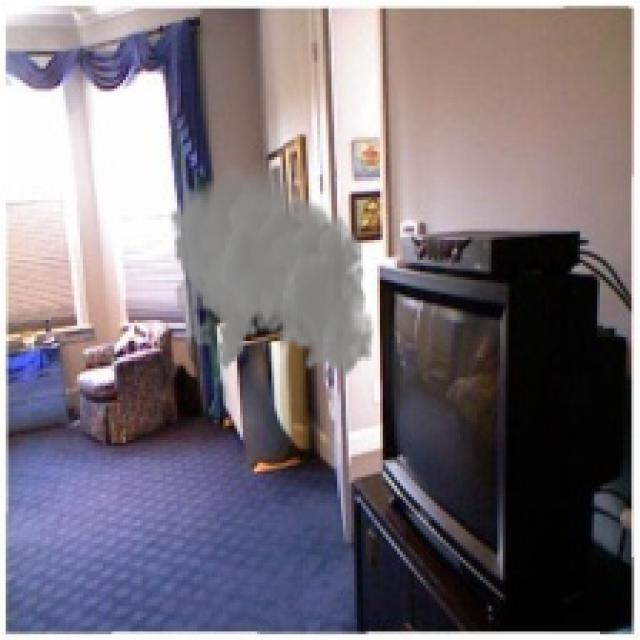Smoke: (168, 154, 374, 383)
